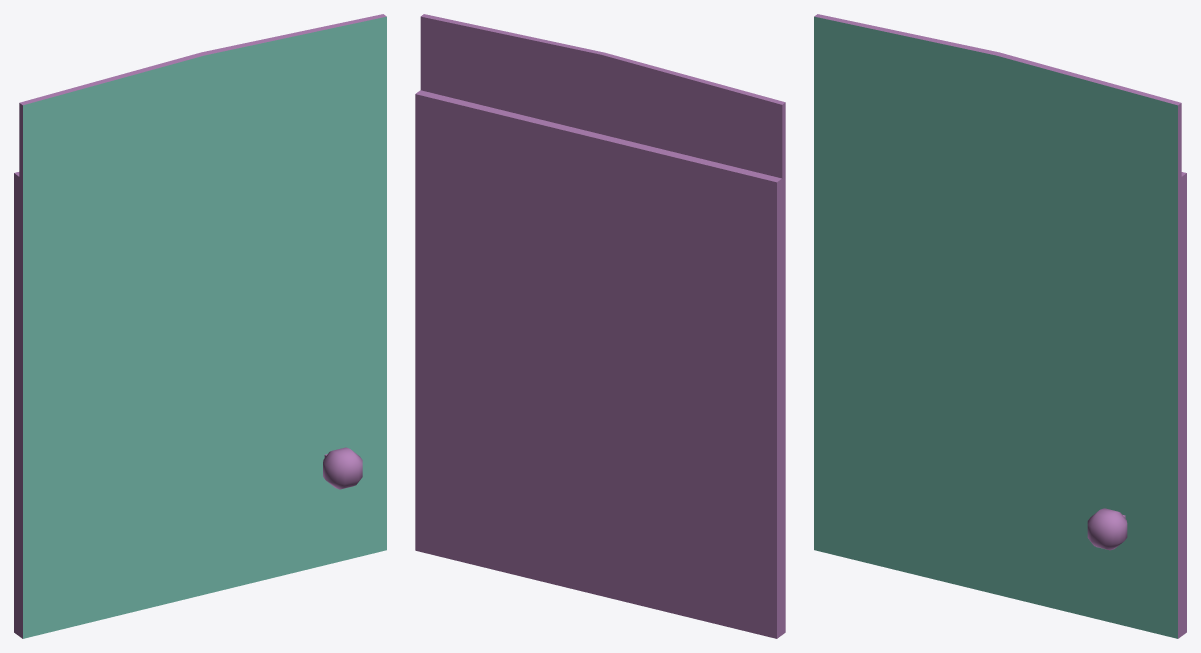
The model's file is SalleDeBainPorteGrdMiroireMilieux.fbx.
The picture shows the model from 3 angles, left to right: view 1: azimuth 30°, elevation 25°; view 2: azimuth 150°, elevation 25°; view 3: azimuth 330°, elevation 25°; orthographic projection.
Visible parts, largest first — view 1: SalleDeBainPorteGrdMiroireMilieux; view 2: SalleDeBainPorteGrdMiroireMilieux; view 3: SalleDeBainPorteGrdMiroireMilieux.
Boxes of the visible parts, <box> form: SalleDeBainPorteGrdMiroireMilieux: <box>14,14,386,638</box>; SalleDeBainPorteGrdMiroireMilieux: <box>415,14,785,638</box>; SalleDeBainPorteGrdMiroireMilieux: <box>814,14,1186,638</box>.
Size of the model in its own units: 49.75 by 70.46 by 7.39.
